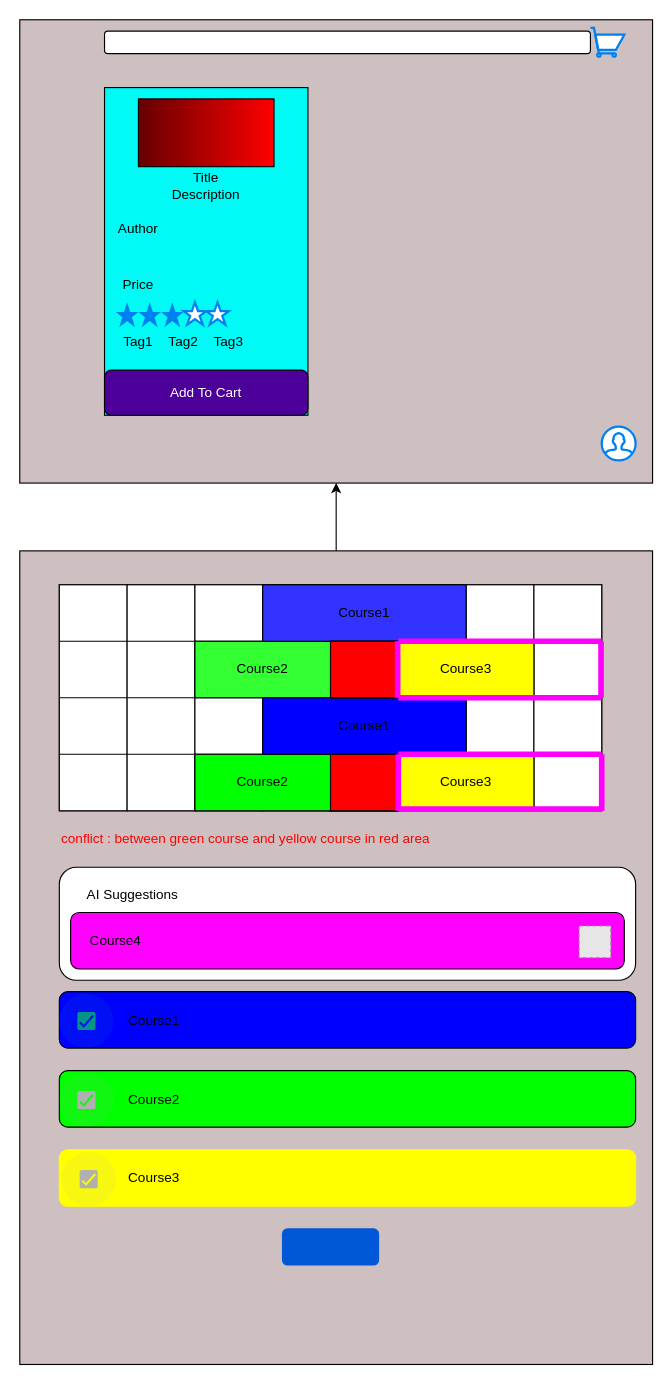
The diagram is 672 pixels wide and 1384 high, and some of its shapes have lost their labels. Grey dashed boxes stand in for pictures. Here are the shapes that lost their labels. From the top down, the box of each, then its label:
(103, 30, 590, 54): Search...
(137, 98, 274, 167): thumbnail
(281, 1228, 379, 1265): Pay now
